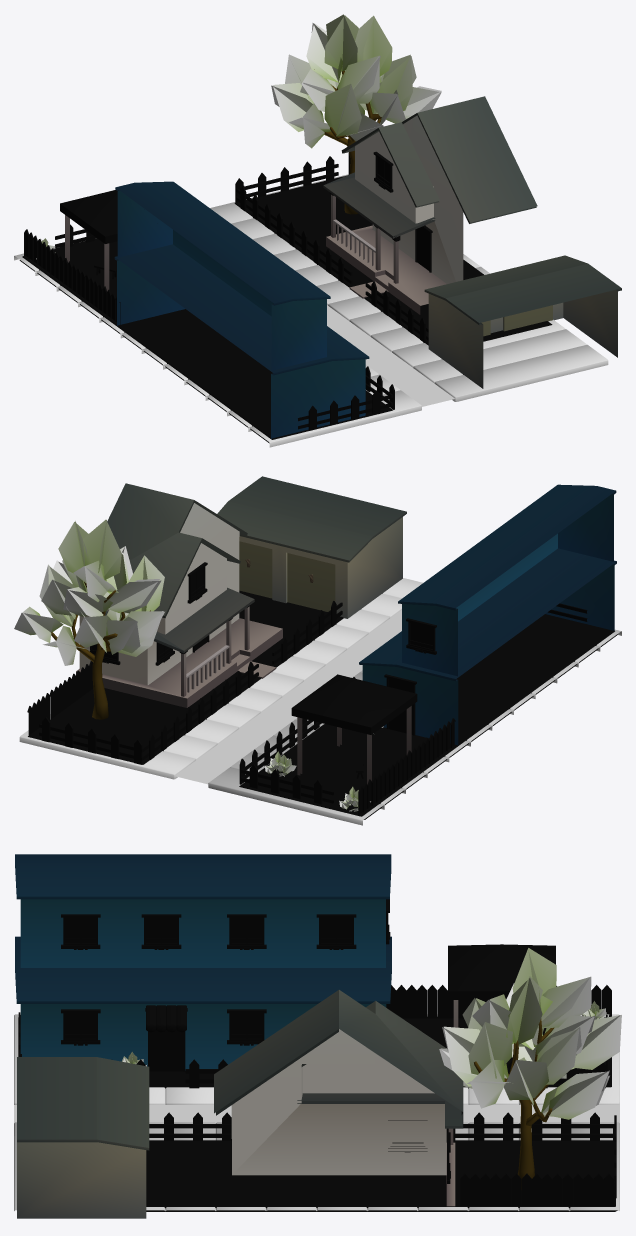
Rendered from SM_ER_module12.fbx.
3 views of the same model, one above another, from view 1: azimuth 30°, elevation 25°; view 2: azimuth 150°, elevation 25°; view 3: azimuth 270°, elevation 25° (orthographic). The views are drawn at different scales.
Parts seen in each view (by area): view 1: SM_ER_module12_walls, SM_ER_floor2, SM_ER_floor1, SM_ER_floor; view 2: SM_ER_module12_walls, SM_ER_floor, SM_ER_floor1, SM_ER_floor2; view 3: SM_ER_module12_walls, SM_ER_floor, SM_ER_floor2, SM_ER_floor1.
Part boxes in pixels (x1=…): SM_ER_module12_walls: x1=19, y1=14, x2=621, y2=443; SM_ER_floor2: x1=185, y1=319, x2=608, y2=447; SM_ER_floor1: x1=99, y1=254, x2=489, y2=385; SM_ER_floor: x1=14, y1=174, x2=348, y2=322; SM_ER_module12_walls: x1=14, y1=476, x2=617, y2=819; SM_ER_floor: x1=19, y1=703, x2=448, y2=825; SM_ER_floor1: x1=228, y1=640, x2=534, y2=762; SM_ER_floor2: x1=315, y1=578, x2=621, y2=698; SM_ER_module12_walls: x1=15, y1=854, x2=621, y2=1218; SM_ER_floor: x1=418, y1=1014, x2=619, y2=1211; SM_ER_floor2: x1=14, y1=1014, x2=215, y2=1211; SM_ER_floor1: x1=216, y1=1105, x2=417, y2=1210.
Bounding box in the file's own units: 4447 × 2369 × 5410.
